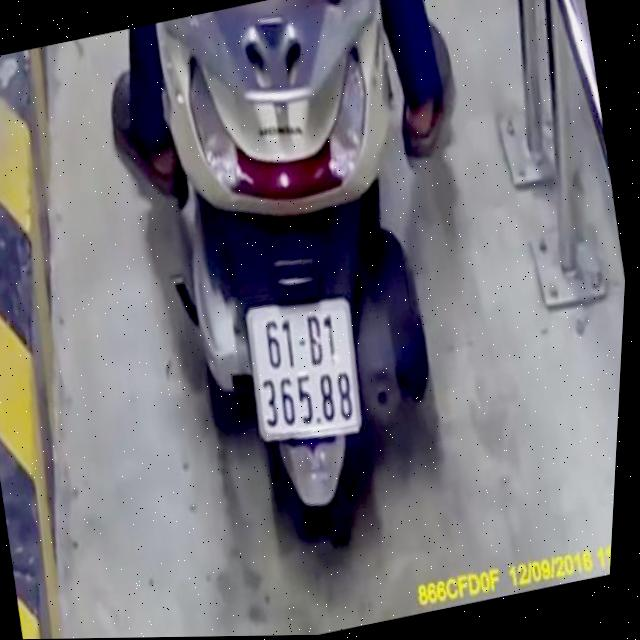motorcycle: (90, 0, 520, 556)
plate: (227, 281, 379, 456)
